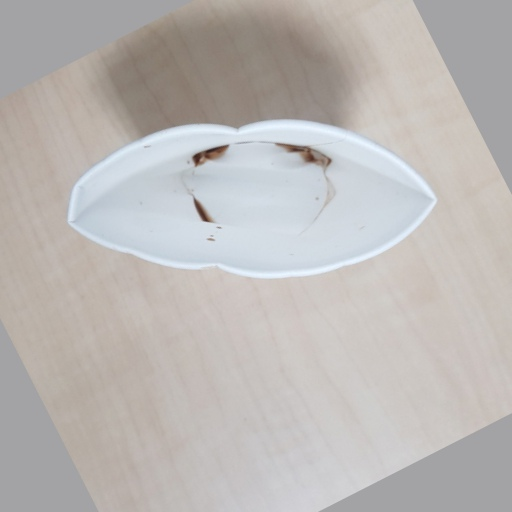Paper_1: (66, 121, 438, 278)
